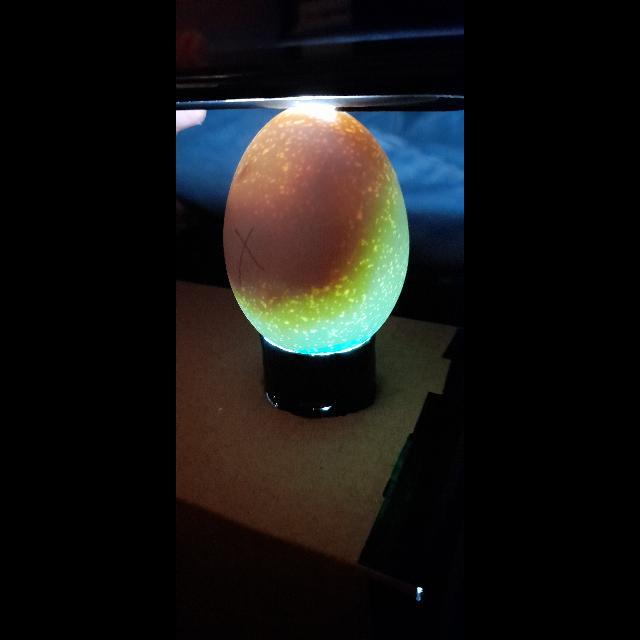Infertile: (223, 108, 409, 360)
